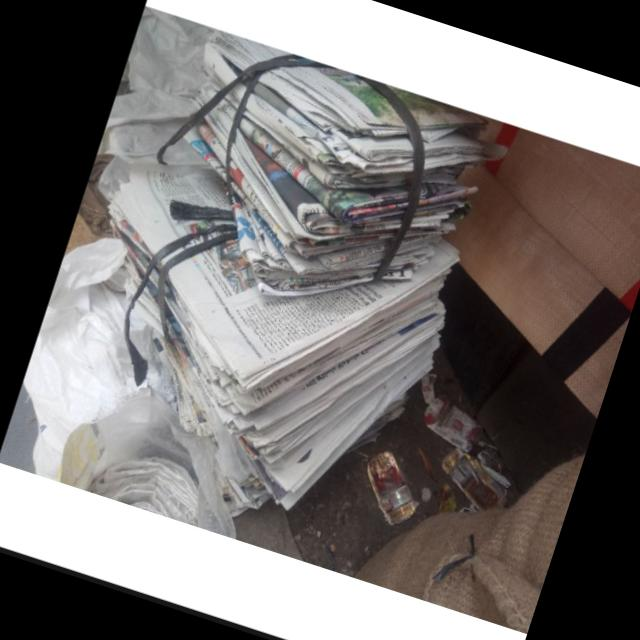Koran: (6, 7, 516, 576)
